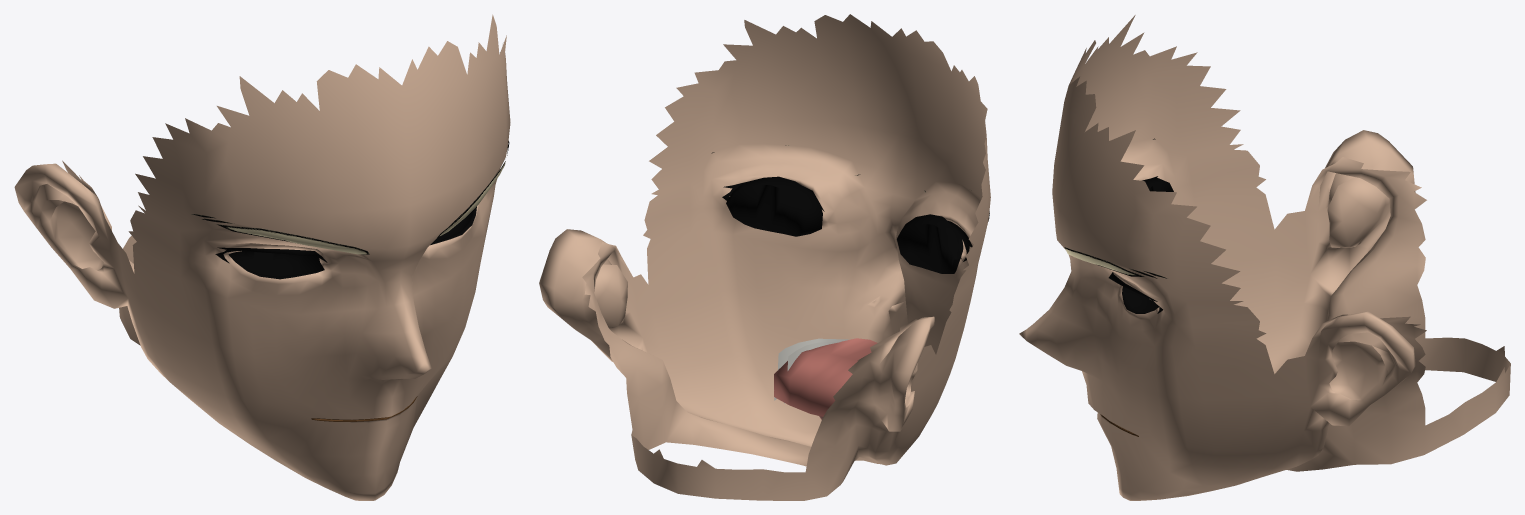
Rendered from 04_yuji_head.fbx.
3 views of the same model, side by side, from view 1: azimuth 30°, elevation 25°; view 2: azimuth 150°, elevation 25°; view 3: azimuth 270°, elevation 25° (orthographic). The views are drawn at different scales.
Visible parts, largest first — view 1: head_Def; view 2: head_Def; view 3: head_Def.
Part boxes in pixels (left/top/right/bottom): head_Def: left=14, top=14, right=510, bottom=500; head_Def: left=539, top=14, right=990, bottom=500; head_Def: left=1019, top=15, right=1510, bottom=500.
Size of the model in its own units: 16.79 by 18 by 18.54.
